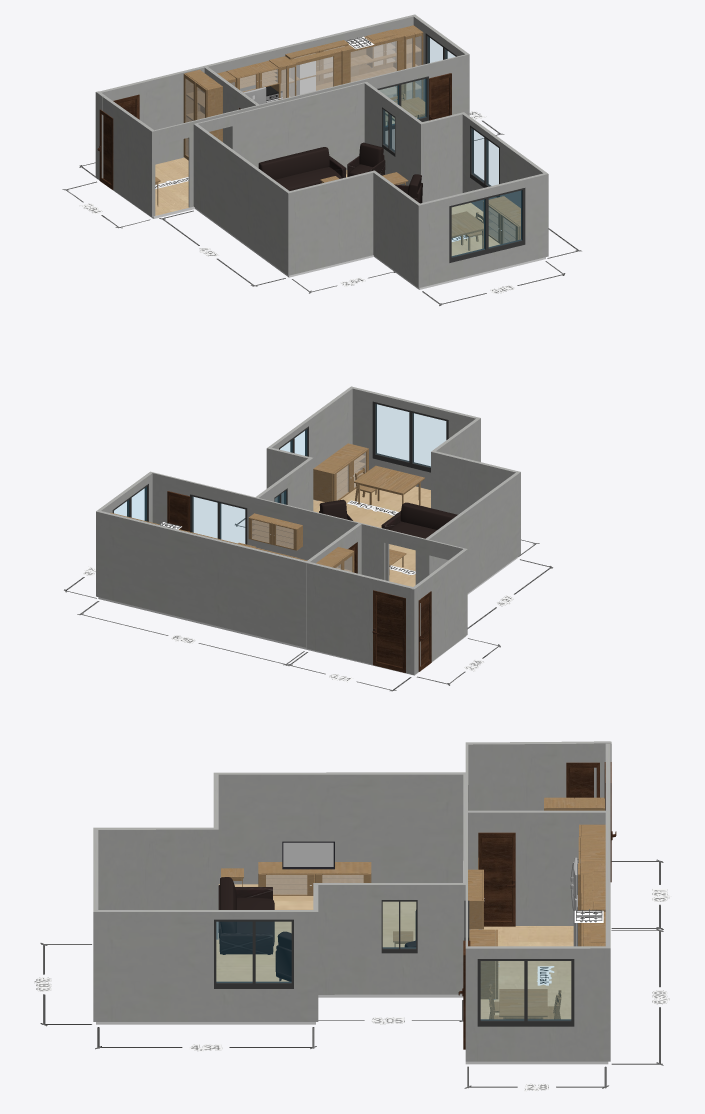
File: 007-Beylikdüzü Adnan Kahveci - 3+1 Daire.glb
The picture shows the model from 3 angles, top to bottom: view 1: azimuth 30°, elevation 25°; view 2: azimuth 150°, elevation 25°; view 3: azimuth 270°, elevation 25°; orthographic projection. The views are drawn at different scales.
Visible parts, largest first — view 1: Duvar (×15), storage (×8), wall_022 (×4), Oda (×2), sofa (×2), door_016 (×2), styledPlanOverlay, table, Floor_0; view 2: Duvar (×15), wall_022 (×3), storage (×3), door_016 (×3), Oda (×2), styledPlanOverlay, sofa, table; view 3: Duvar (×9), wall_022 (×3), Oda (×2), storage (×7), door_016 (×2), sofa (×2), styledPlanOverlay, television, table.
Boxes of the visible parts, x1,y1,x2,y2 form: Duvar (×15): (95,14,548,287); storage (×8): (183,25,520,244); wall_022 (×4): (377,76,525,262); Oda (×2): (99,157,545,289); sofa (×2): (258,142,385,190); door_016 (×2): (97,73,451,189); styledPlanOverlay: (62,111,581,305); table: (451,211,483,248); Floor_0: (296,61,315,95); Duvar (×15): (96,386,520,675); wall_022 (×3): (112,401,448,544); storage (×3): (248,443,368,572); door_016 (×3): (167,491,431,672); Oda (×2): (98,485,518,649); styledPlanOverlay: (64,518,552,691); sofa: (381,502,457,538); table: (354,465,424,505); Duvar (×9): (93,741,611,1061); wall_022 (×3): (214,900,574,1026); Oda (×2): (96,884,608,1064); storage (×7): (258,797,605,999); door_016 (×2): (478,762,599,926); sofa (×2): (218,877,291,981); styledPlanOverlay: (34,859,670,1091); television: (282,841,334,869); table: (499,989,547,1019).
Size of what is drawn, in the model's own units: 0.6552 by 0.1314 by 0.6835.
Materials: 22 (13 with a texture image).
